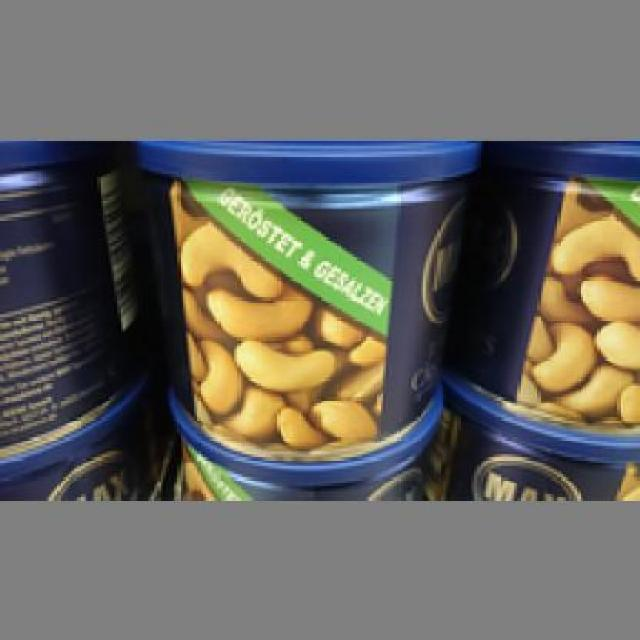Nuts: (126, 137, 486, 460)
